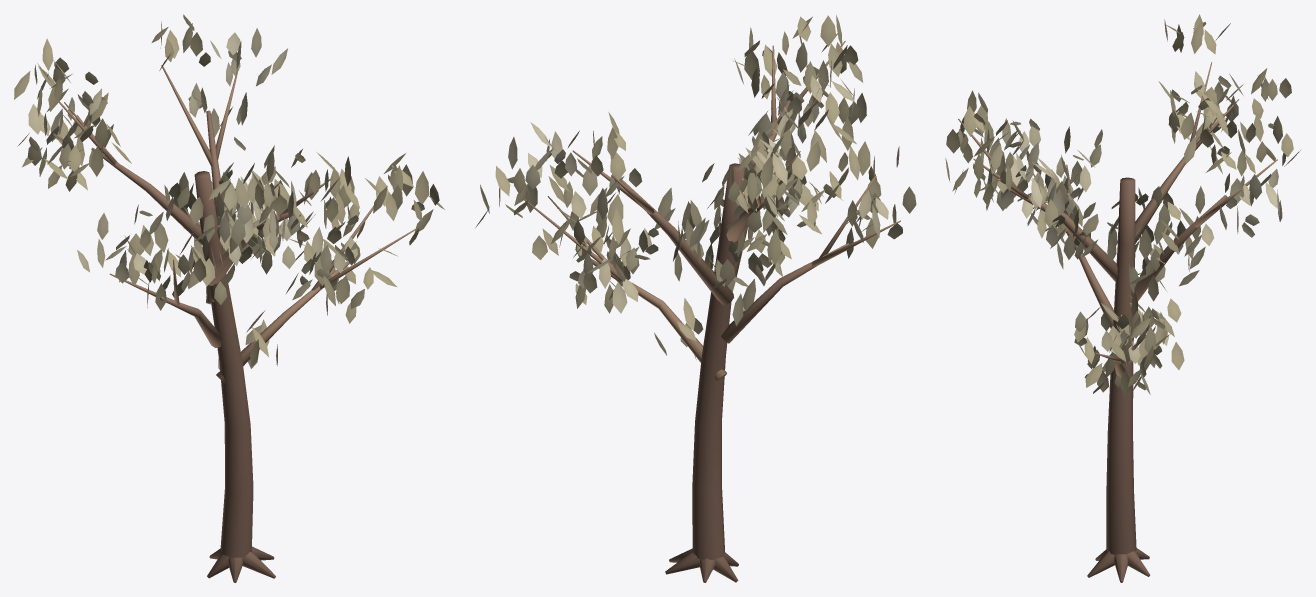
File: tree_3d_06_golden_beige.glb
3 renders of one model, left to right at view 1: azimuth 30°, elevation 25°; view 2: azimuth 150°, elevation 25°; view 3: azimuth 270°, elevation 25°, orthographic. The views are drawn at different scales.
Visible parts, largest first — view 1: tree_3d_06_golden_beige_foliage, tree_3d_06_golden_beige_wood; view 2: tree_3d_06_golden_beige_foliage, tree_3d_06_golden_beige_wood; view 3: tree_3d_06_golden_beige_foliage, tree_3d_06_golden_beige_wood.
Part boxes in pixels (x1=…): tree_3d_06_golden_beige_foliage: x1=14, y1=14, x2=444, y2=370; tree_3d_06_golden_beige_wood: x1=58, y1=65, x2=415, y2=582; tree_3d_06_golden_beige_foliage: x1=475, y1=15, x2=916, y2=371; tree_3d_06_golden_beige_wood: x1=523, y1=41, x2=900, y2=582; tree_3d_06_golden_beige_foliage: x1=945, y1=14, x2=1300, y2=396; tree_3d_06_golden_beige_wood: x1=958, y1=62, x2=1277, y2=582.
Bounding box in the file's own units: 6.65 × 8.55 × 5.65.
